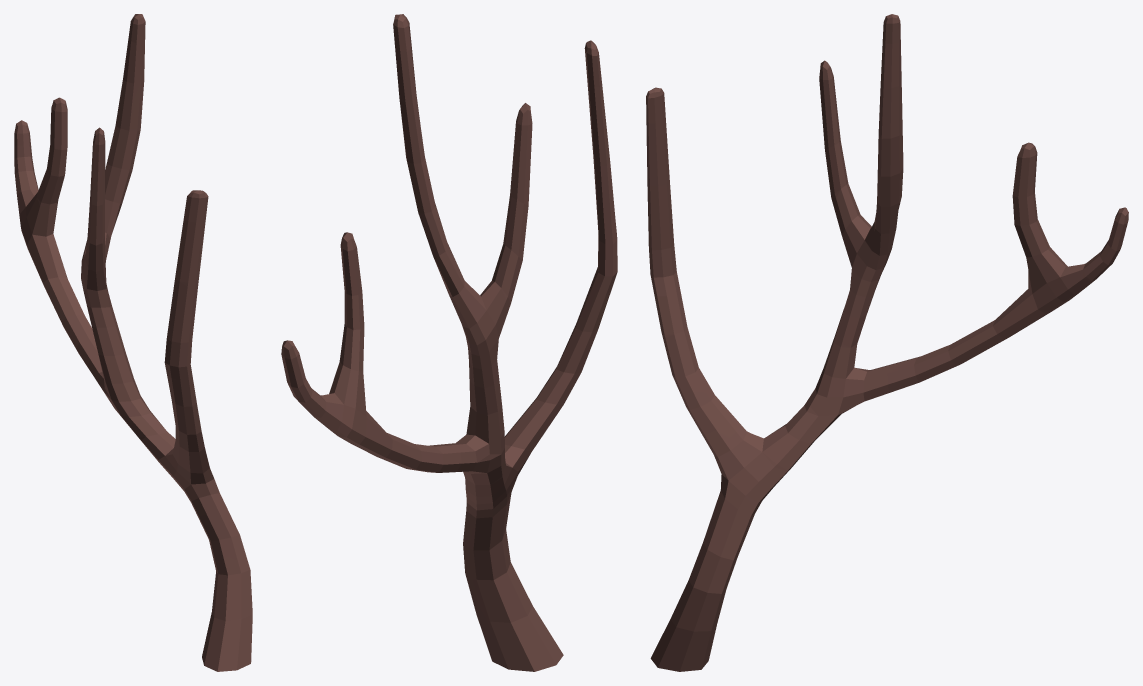
Rendered from willow_dead_1.glb.
3 renders of one model, left to right at view 1: azimuth 30°, elevation 25°; view 2: azimuth 150°, elevation 25°; view 3: azimuth 270°, elevation 25°, orthographic. The views are drawn at different scales.
Visible parts, largest first — view 1: willow_dead_1; view 2: willow_dead_1; view 3: willow_dead_1.
Part boxes in pixels (box(x1,y1,x2,y2)): willow_dead_1: box(14, 14, 252, 671); willow_dead_1: box(281, 14, 617, 671); willow_dead_1: box(646, 14, 1128, 671).
Size of the model in its own units: 0.4992 by 2.69 by 1.81.
1 material, 1 textured.
